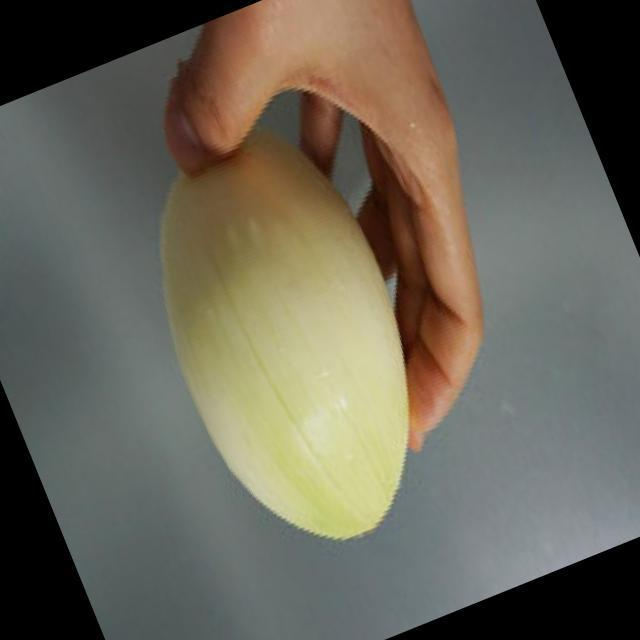Onion: (159, 140, 407, 543)
